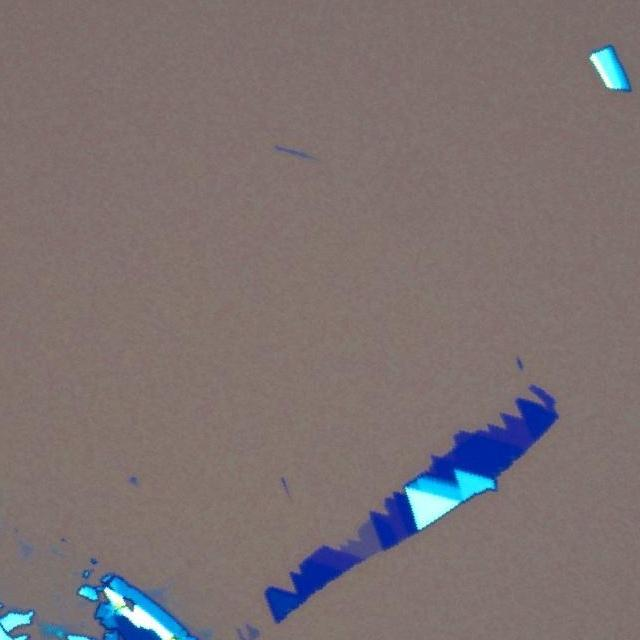monolayer-eWW4: (334, 519, 384, 564)
